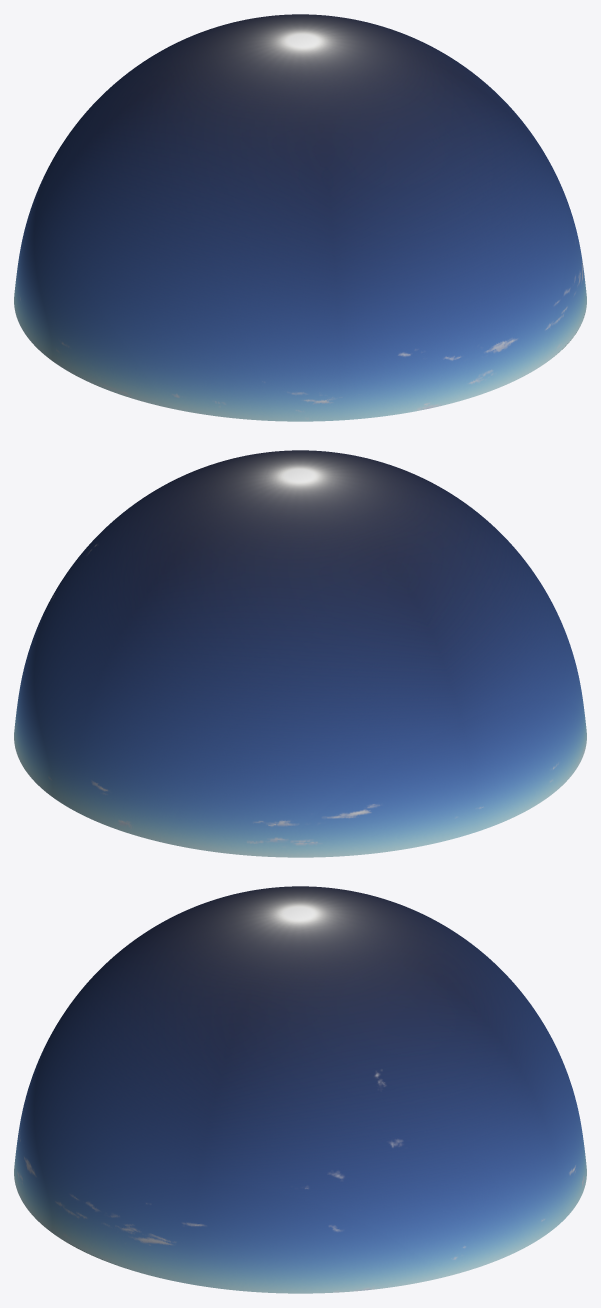
Rendered from skydome.obj.
The picture shows the model from 3 angles, top to bottom: view 1: azimuth 30°, elevation 25°; view 2: azimuth 150°, elevation 25°; view 3: azimuth 270°, elevation 25°; orthographic projection.
Visible parts, largest first — view 1: Sphere; view 2: Sphere; view 3: Sphere.
Boxes of the visible parts, x1,y1,x2,y2 form: Sphere: [14, 14, 586, 421]; Sphere: [14, 450, 586, 857]; Sphere: [14, 886, 586, 1293].
Bounding box in the file's own units: 41.77 × 20.97 × 41.77.
Materials: 1 (1 with a texture image).
